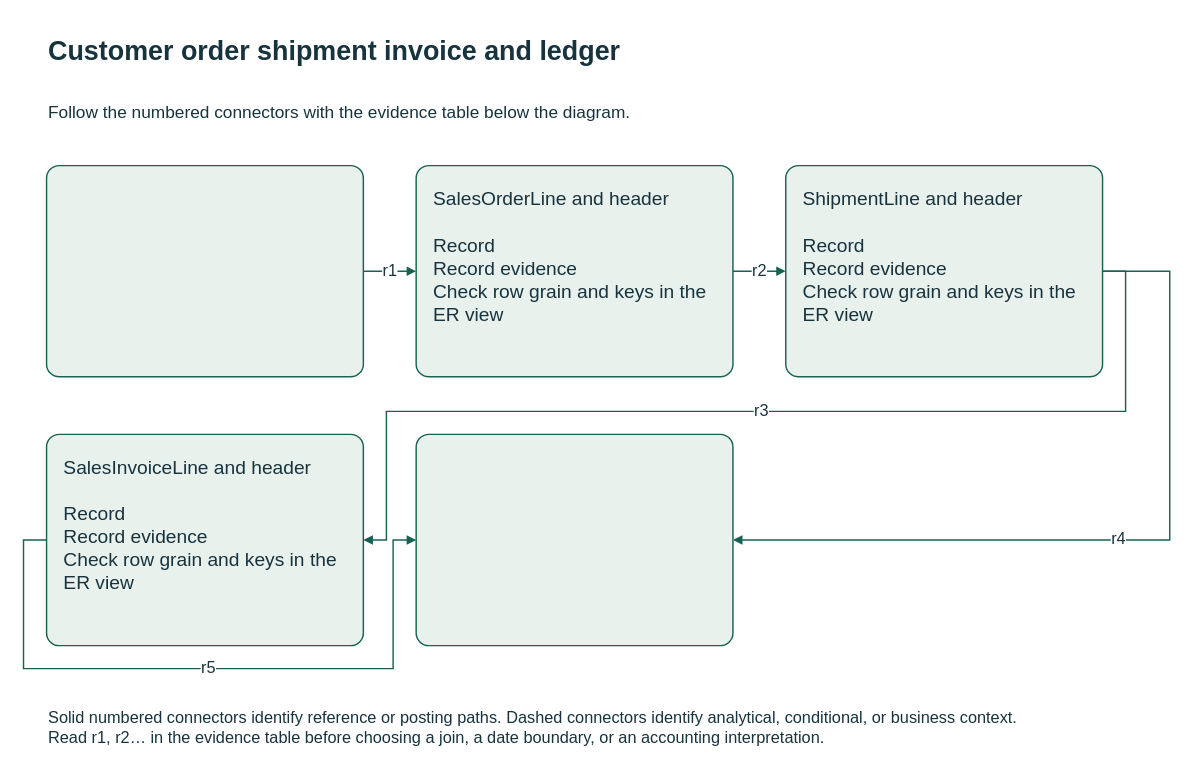
Image size: 1195x773. Some labels were removed from this diagram. Here are the shapes that lost their labels. From the top down, the centre of each, then its label:
At (204,270): "Customer Record Record evidence Check row grain and keys in the ER view".
At (574,539): "GLEntry Record Record evidence Check row grain and keys in the ER view".
